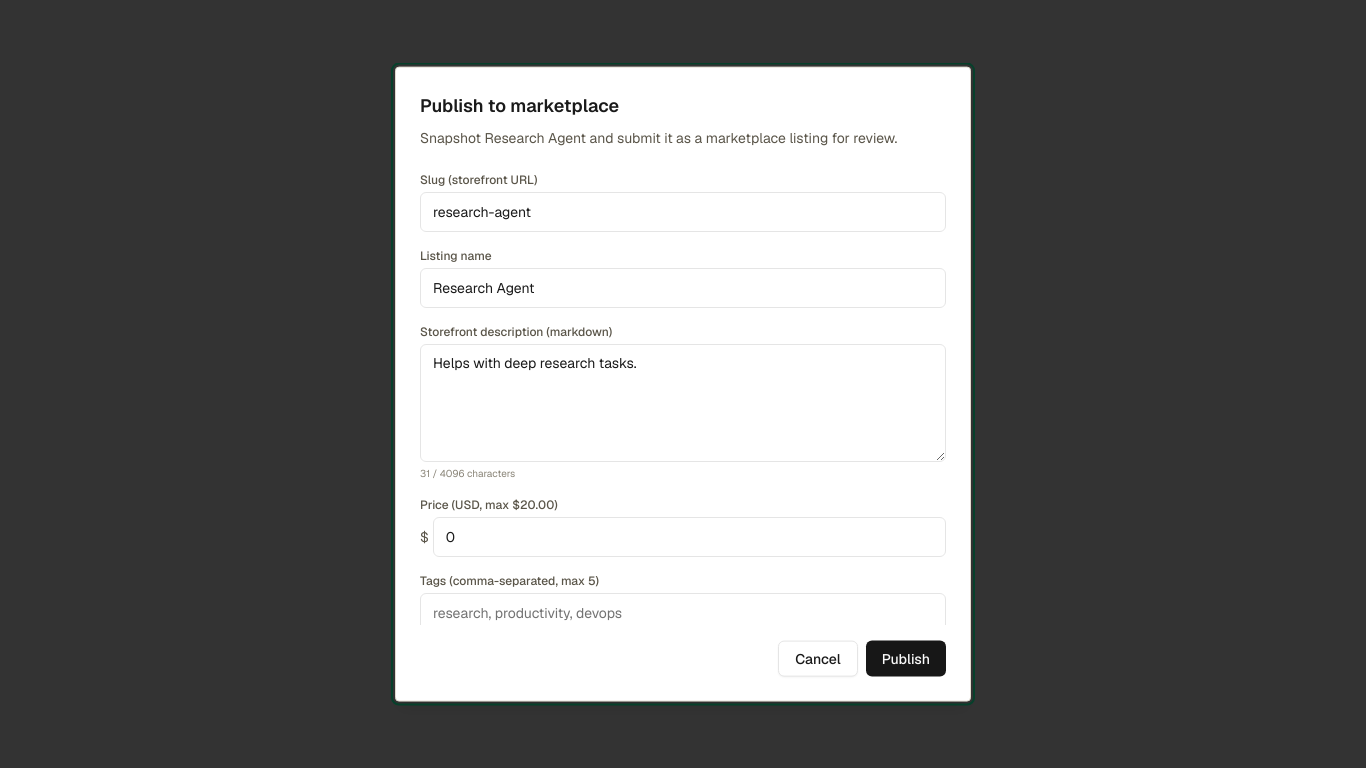
it: PublishAgentModal — submit flow › artifact 403 surfaces tier-gated error message
The width and height of the screenshot is (1366, 768).
Expected: the field labelled "Slug (storefront URL)" is shown, [420,192,946,232]
Click the button "Publish" at (906, 658), box [866,640,946,676]
(page scrolled)
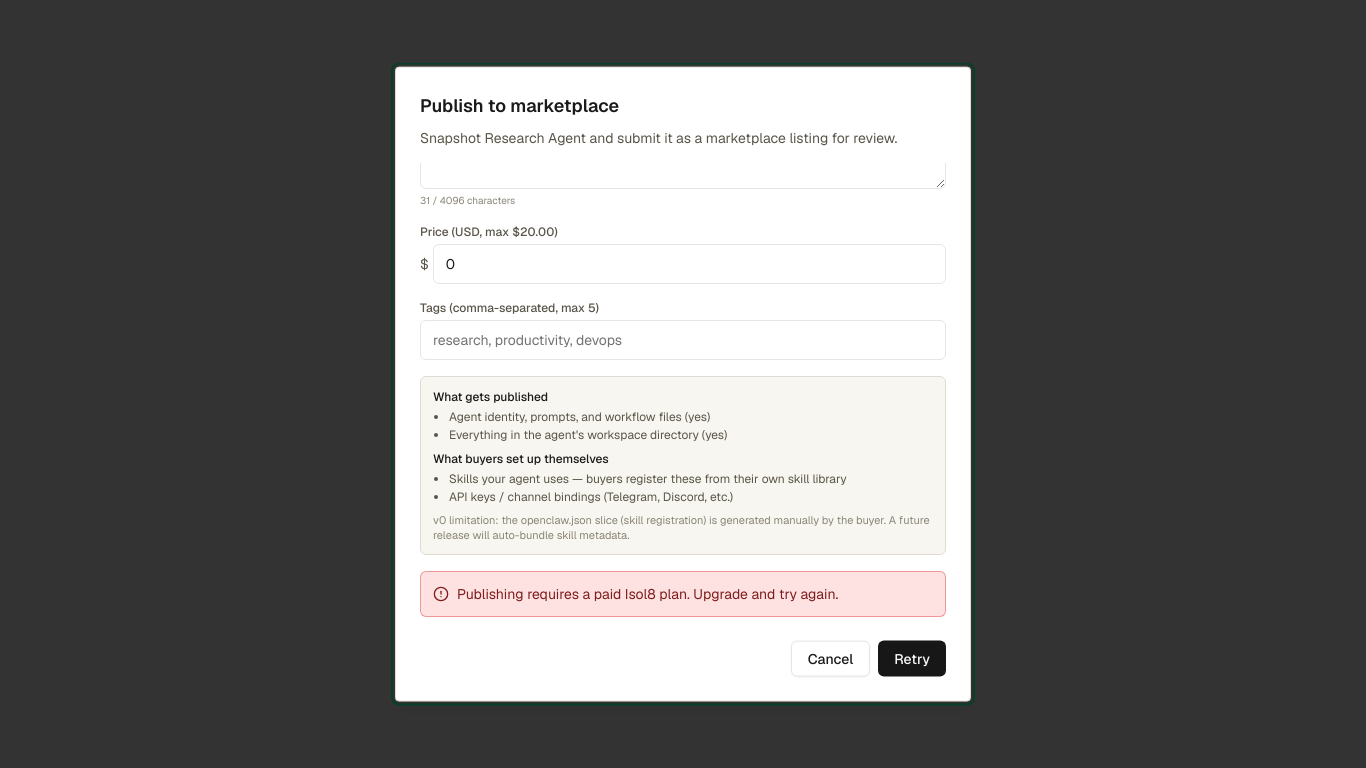
Now the text "Publishing requires a paid Isol8 plan" is shown, box [457,585,838,603]
